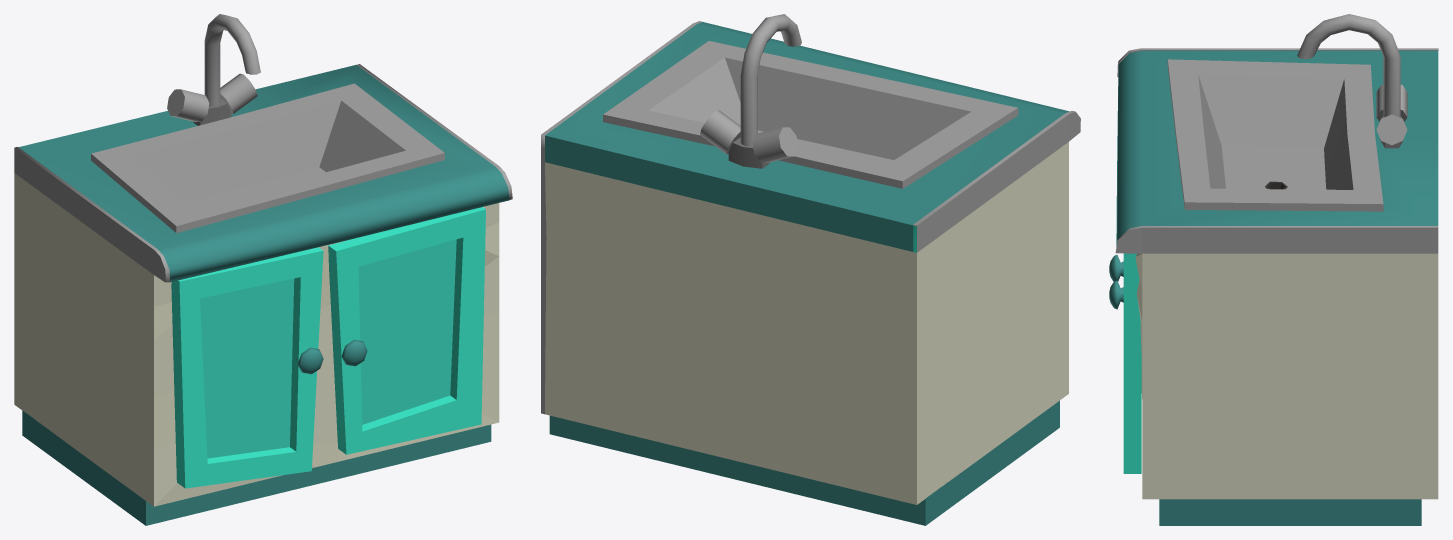
File: NewWorkTable_Crane.fbx
The picture shows the model from 3 angles, left to right: view 1: azimuth 30°, elevation 25°; view 2: azimuth 150°, elevation 25°; view 3: azimuth 270°, elevation 25°; orthographic projection. The views are drawn at different scales.
Visible parts, largest first — view 1: WorkTable_Crane; view 2: WorkTable_Crane; view 3: WorkTable_Crane.
Boxes of the visible parts, x1,y1,x2,y2 form: WorkTable_Crane: (14,14,512,525); WorkTable_Crane: (541,14,1080,525); WorkTable_Crane: (1109,14,1438,525).
Size of the model in its own units: 100 by 111 by 77.83.
